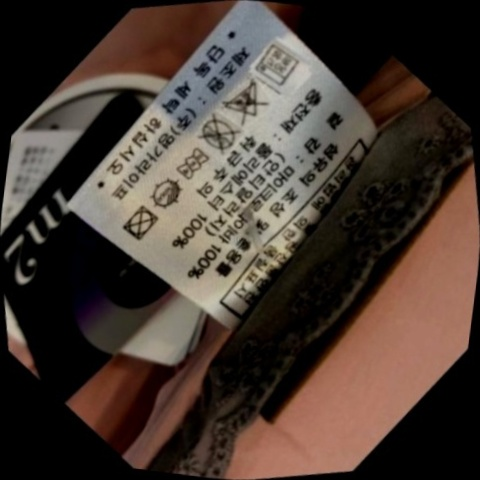30C: (242, 32, 315, 100)
DN_dry_clean: (186, 104, 256, 166)
DN_tumble_dry: (115, 196, 169, 249)
dry_flat_in_shade: (136, 162, 198, 219)
non_chlorine_bleach: (213, 70, 282, 135)
wring: (164, 135, 225, 195)
